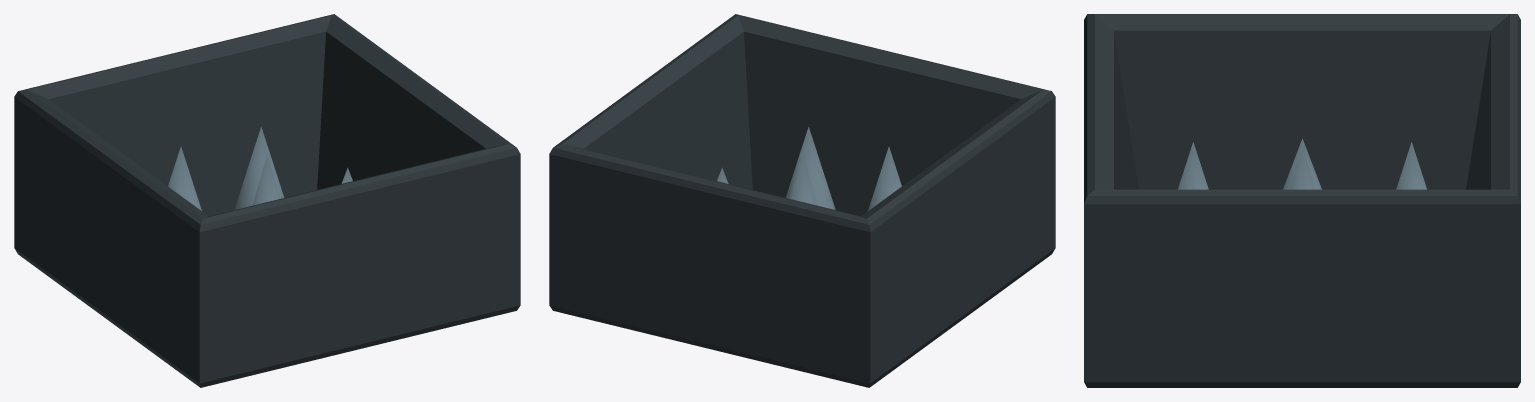
The model's file is tileSpikes_shallow.obj.
3 views of the same model, side by side, from view 1: azimuth 30°, elevation 25°; view 2: azimuth 150°, elevation 25°; view 3: azimuth 270°, elevation 25° (orthographic). The views are drawn at different scales.
Visible parts, largest first — view 1: tileSpikes_shallow_Cube.3225; view 2: tileSpikes_shallow_Cube.3225; view 3: tileSpikes_shallow_Cube.3225.
Part boxes in pixels (box(x1,y1,x2,y2)): tileSpikes_shallow_Cube.3225: box(14, 14, 520, 387); tileSpikes_shallow_Cube.3225: box(549, 14, 1055, 387); tileSpikes_shallow_Cube.3225: box(1084, 14, 1520, 387).
Bounding box in the file's own units: 2 × 1 × 2.
